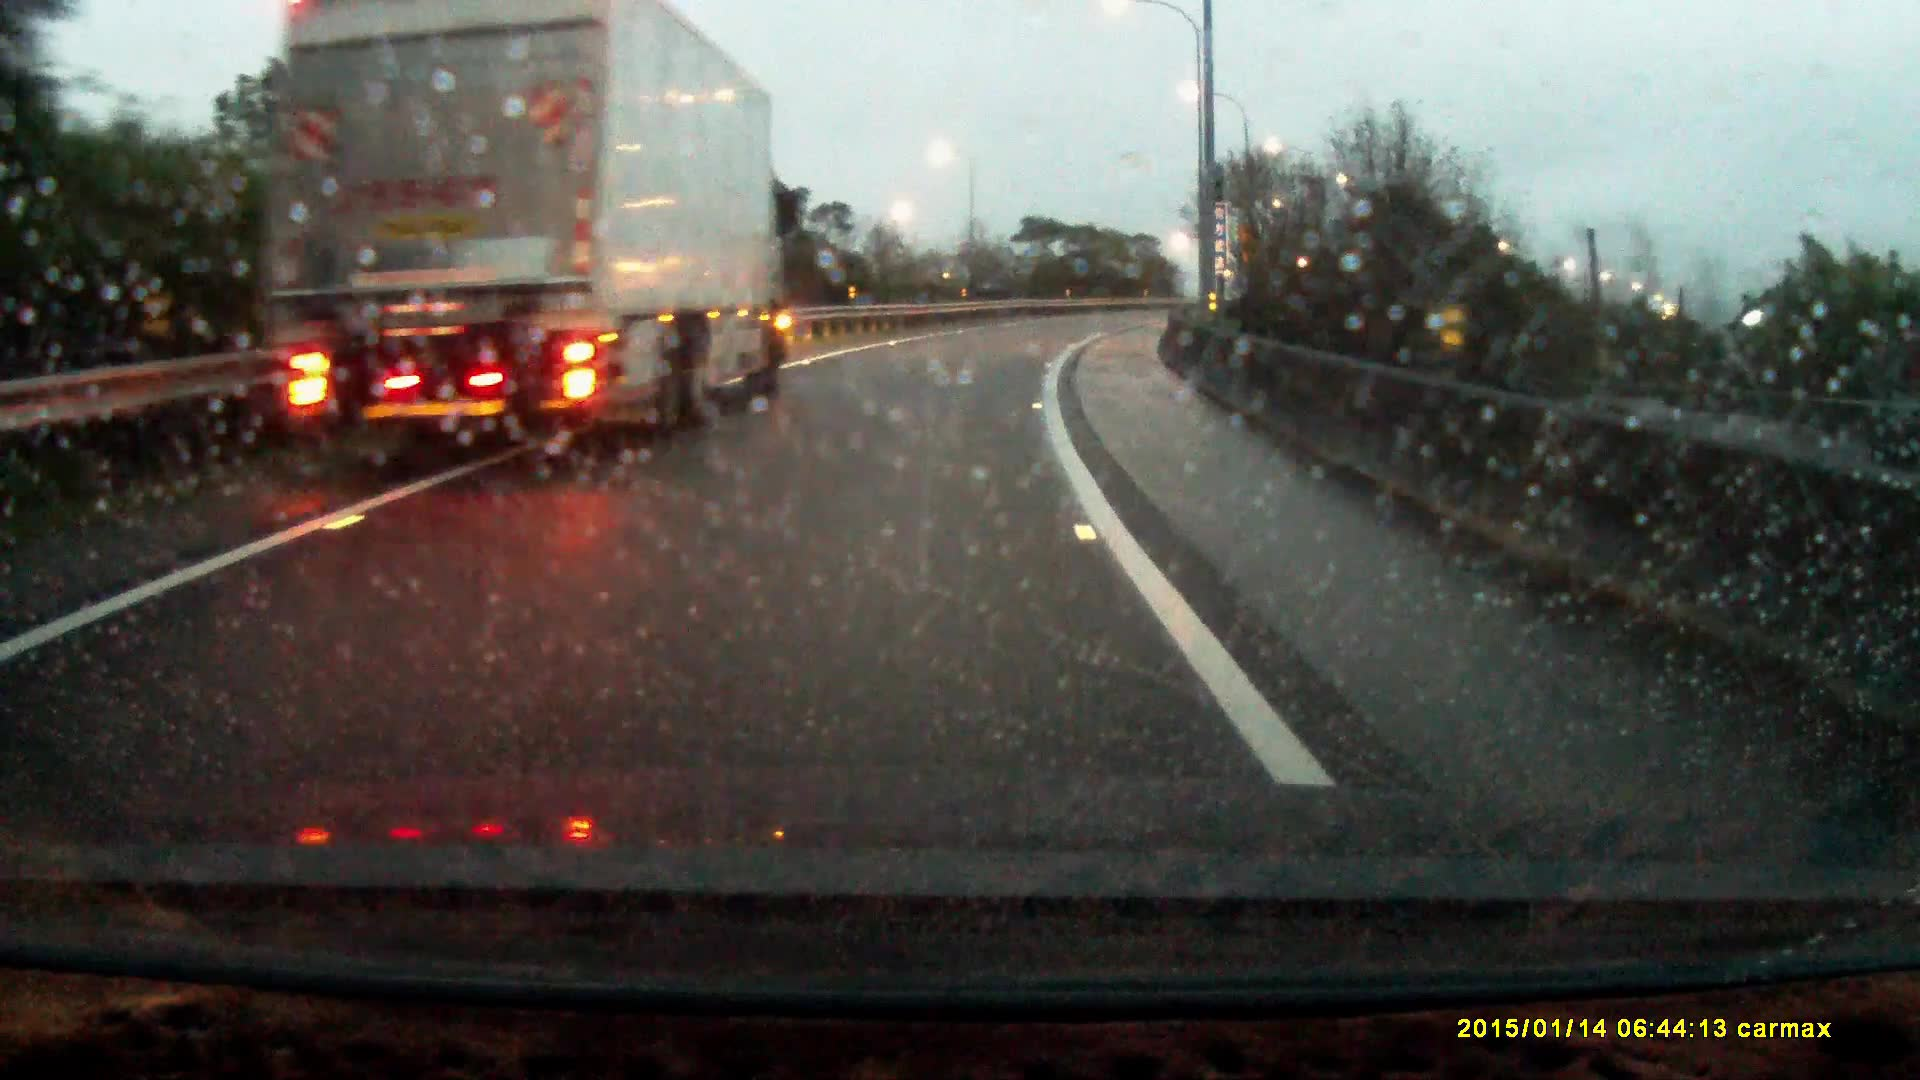vehicle: (247, 1, 798, 460)
